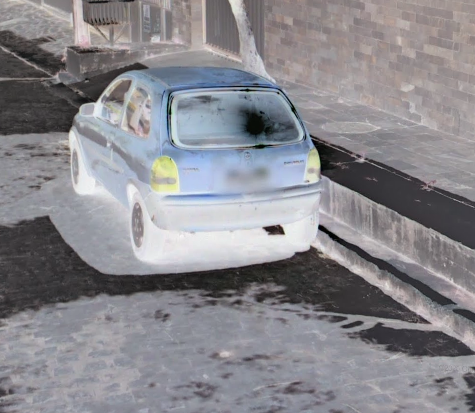car: (66, 64, 323, 263)
